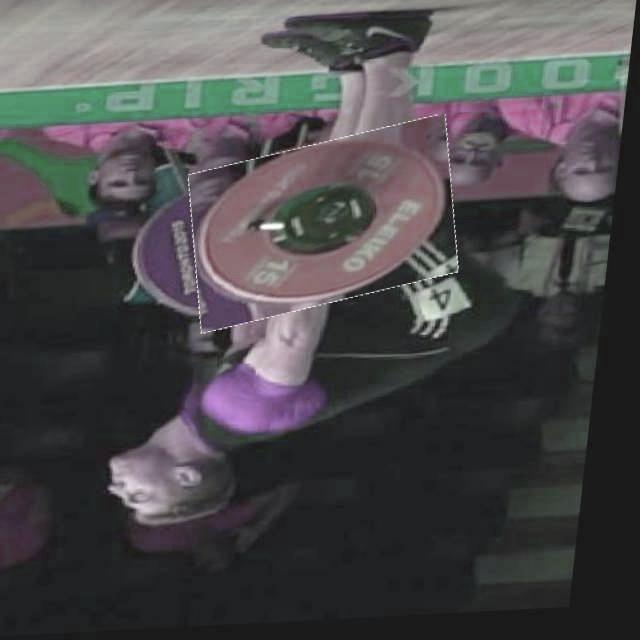barbell: (187, 130, 472, 325)
